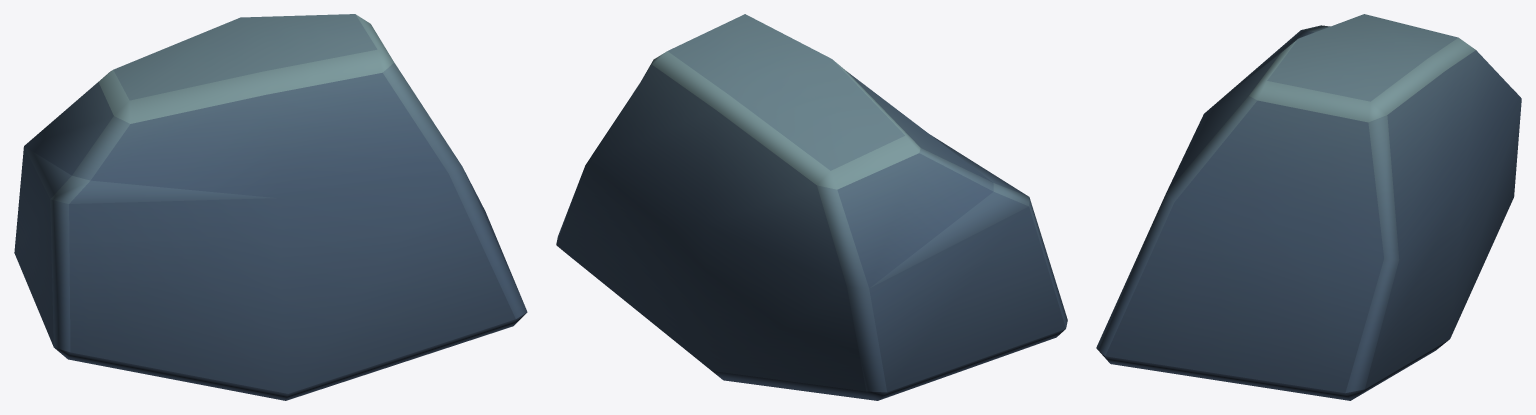
Rendered from rock_025.fbx.
3 renders of one model, left to right at view 1: azimuth 30°, elevation 25°; view 2: azimuth 150°, elevation 25°; view 3: azimuth 270°, elevation 25°, orthographic. The views are drawn at different scales.
Parts seen in each view (by area): view 1: rock_025; view 2: rock_025; view 3: rock_025.
Boxes of the visible parts, bbox=[...] form: rock_025: bbox=[14, 14, 527, 400]; rock_025: bbox=[556, 14, 1067, 400]; rock_025: bbox=[1096, 14, 1521, 400].
Size of the model in its own units: 347 by 203 by 261.
1 material, 1 textured.
